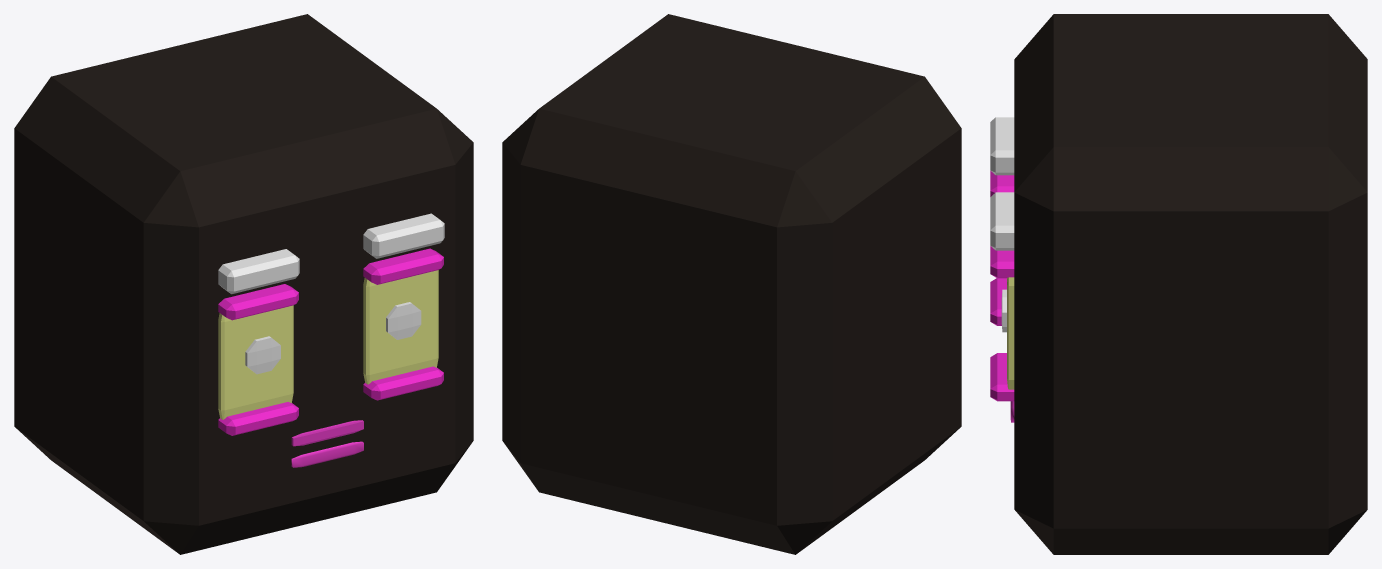
File: bossfinal02.glb
3 renders of one model, left to right at view 1: azimuth 30°, elevation 25°; view 2: azimuth 150°, elevation 25°; view 3: azimuth 270°, elevation 25°, orthographic. The views are drawn at different scales.
Visible parts, largest first — view 1: head, Cube.002, EyeBrown, lip_up, lip_up.001, eye, eyes, mouth', mouth; view 2: head; view 3: head, EyeBrown, lip_up.001, lip_up, Cube.002.
Part boxes in pixels (x1,y1,x2,y2): head: [14, 14, 473, 554]; Cube.002: [218, 270, 438, 419]; EyeBrown: [218, 213, 444, 294]; lip_up: [218, 248, 443, 320]; lip_up.001: [218, 366, 443, 435]; eye: [386, 302, 421, 339]; eyes: [245, 336, 280, 374]; mouth': [291, 441, 363, 467]; mouth: [291, 420, 363, 446]; head: [502, 14, 961, 554]; head: [1014, 14, 1367, 554]; EyeBrown: [990, 117, 1014, 250]; lip_up.001: [990, 278, 1014, 401]; lip_up: [990, 171, 1014, 278]; Cube.002: [1007, 277, 1014, 389].
Size of the model in its own units: 1.8 by 2 by 1.68.
